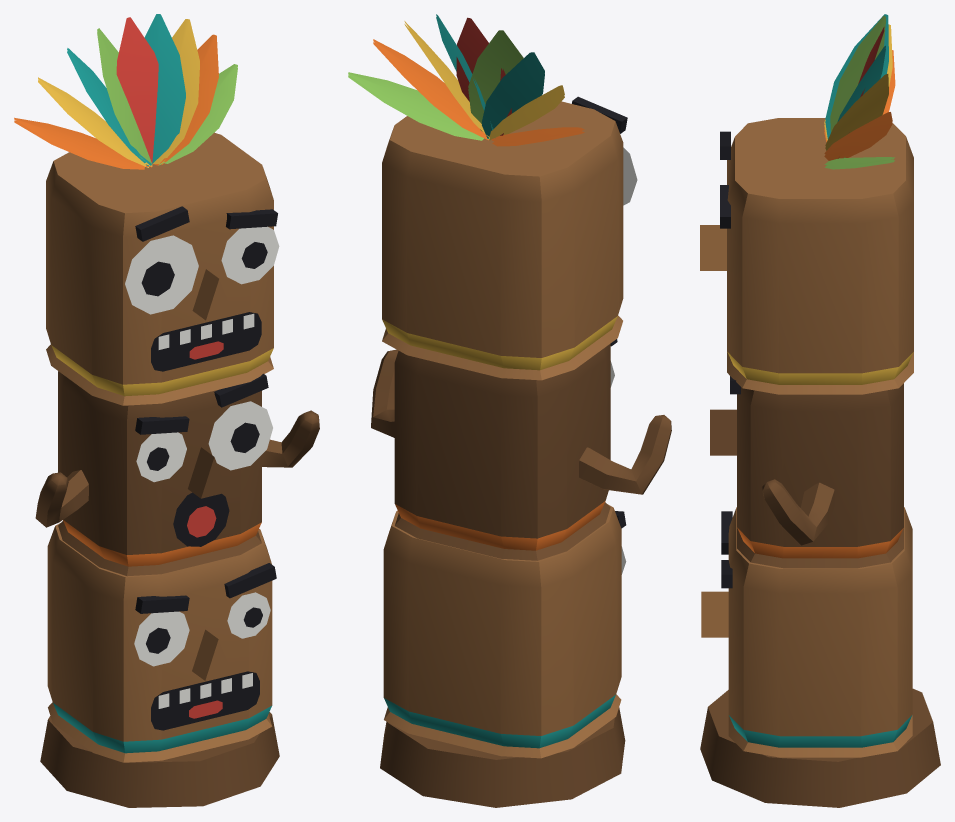
Rendered from Tiki.fbx.
The picture shows the model from 3 angles, left to right: view 1: azimuth 30°, elevation 25°; view 2: azimuth 150°, elevation 25°; view 3: azimuth 270°, elevation 25°; orthographic projection. The views are drawn at different scales.
Visible parts, largest first — view 1: Tiki; view 2: Tiki; view 3: Tiki.
Part boxes in pixels (x1,y1,x2,y2): Tiki: (14, 14, 319, 807); Tiki: (348, 14, 671, 807); Tiki: (700, 14, 940, 807).
Size of the model in its own units: 4.09 by 10.24 by 3.06.
1 material, 1 textured.
